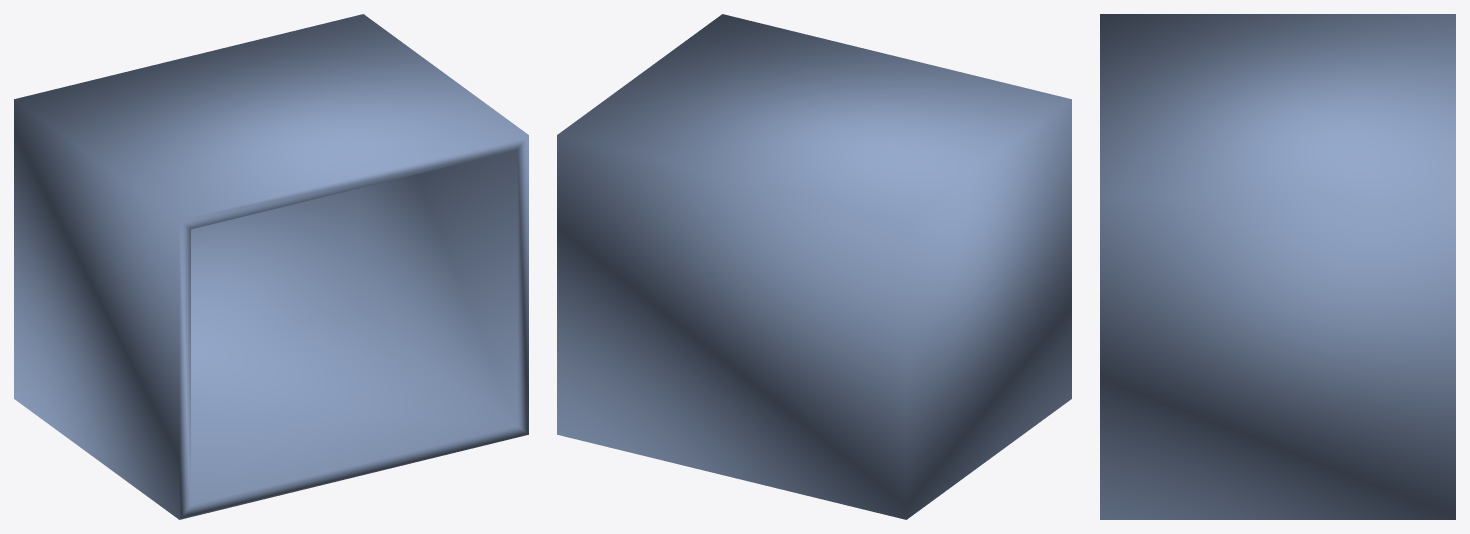
3 views of the same model, side by side, from view 1: azimuth 30°, elevation 25°; view 2: azimuth 150°, elevation 25°; view 3: azimuth 270°, elevation 25° (orthographic). The views are drawn at different scales.
Size of the model in its own units: 0.122 by 0.1 by 0.1.
